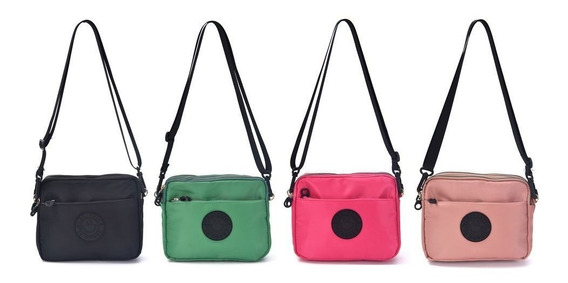cartera: (415, 18, 540, 268), (282, 18, 405, 265), (152, 19, 274, 263), (30, 18, 149, 263)
